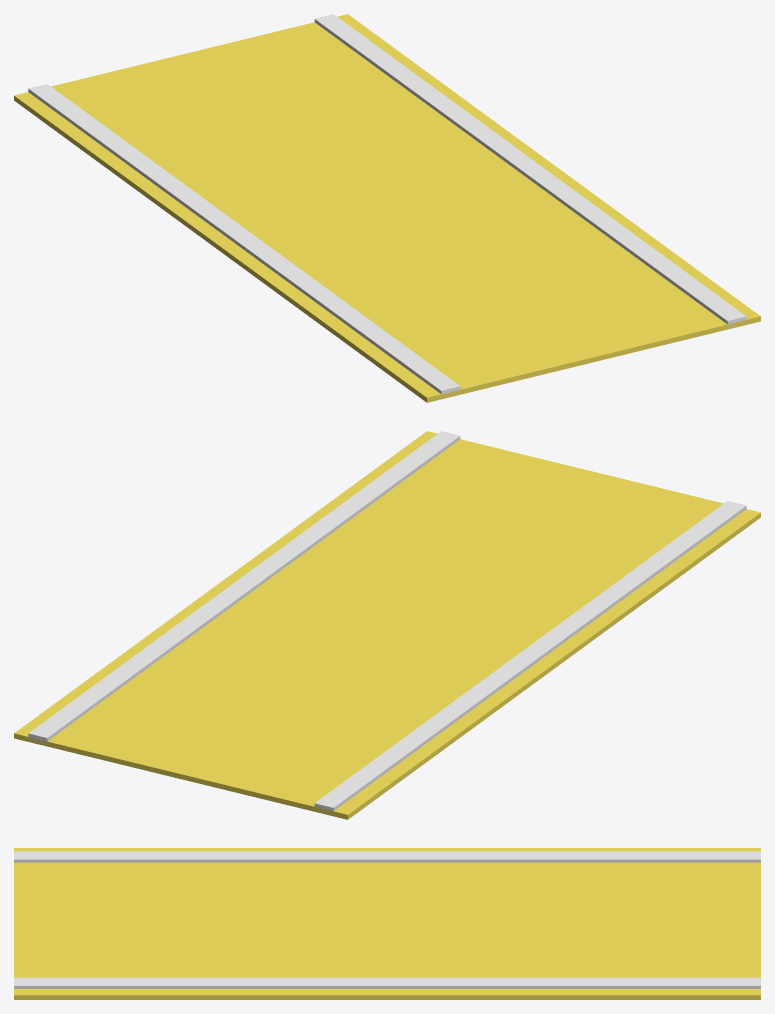
The model's file is DockLaneMarker.fbx.
3 renders of one model, top to bottom at view 1: azimuth 30°, elevation 25°; view 2: azimuth 150°, elevation 25°; view 3: azimuth 270°, elevation 25°, orthographic. The views are drawn at different scales.
Parts seen in each view (by area): view 1: Lane, Stripe_0.6, Stripe_-0.6; view 2: Lane, Stripe_0.6, Stripe_-0.6; view 3: Lane, Stripe_-0.6, Stripe_0.6.
Part boxes in pixels (x1=…): Lane: x1=14, y1=14, x2=760, y2=402; Stripe_0.6: x1=314, y1=14, x2=746, y2=328; Stripe_-0.6: x1=28, y1=84, x2=460, y2=397; Lane: x1=14, y1=431, x2=760, y2=819; Stripe_0.6: x1=28, y1=431, x2=460, y2=744; Stripe_-0.6: x1=314, y1=501, x2=746, y2=814; Lane: x1=14, y1=848, x2=760, y2=999; Stripe_-0.6: x1=14, y1=851, x2=760, y2=862; Stripe_0.6: x1=14, y1=977, x2=760, y2=988.
Bounding box in the file's own units: 140 × 3.4 × 300.
